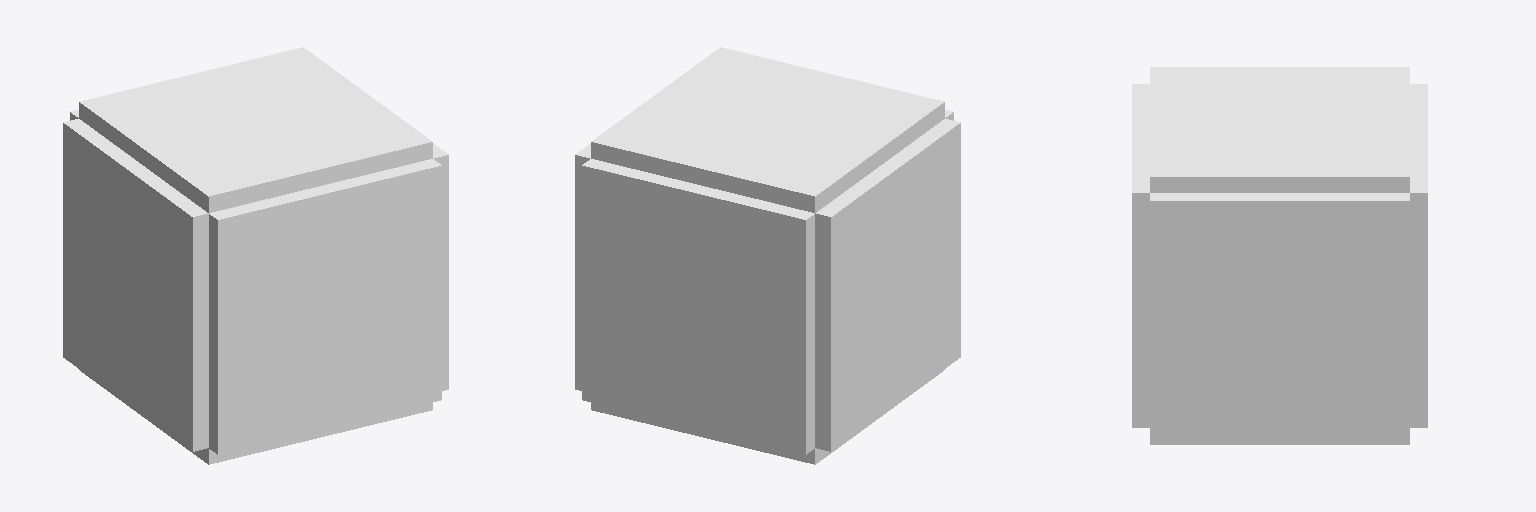
Rendered from blocog.obj.
The picture shows the model from 3 angles: view 1: azimuth 30°, elevation 25°; view 2: azimuth 150°, elevation 25°; view 3: azimuth 270°, elevation 25°; orthographic projection.
Parts seen in each view (by area): view 1: object 1; view 2: object 1; view 3: object 1.
Boxes of the visible parts, x1=… form: object 1: x1=63, y1=47, x2=448, y2=464; object 1: x1=575, y1=47, x2=960, y2=464; object 1: x1=1132, y1=67, x2=1427, y2=444.
Bounding box in the file's own units: 1.6 × 1.6 × 1.6.